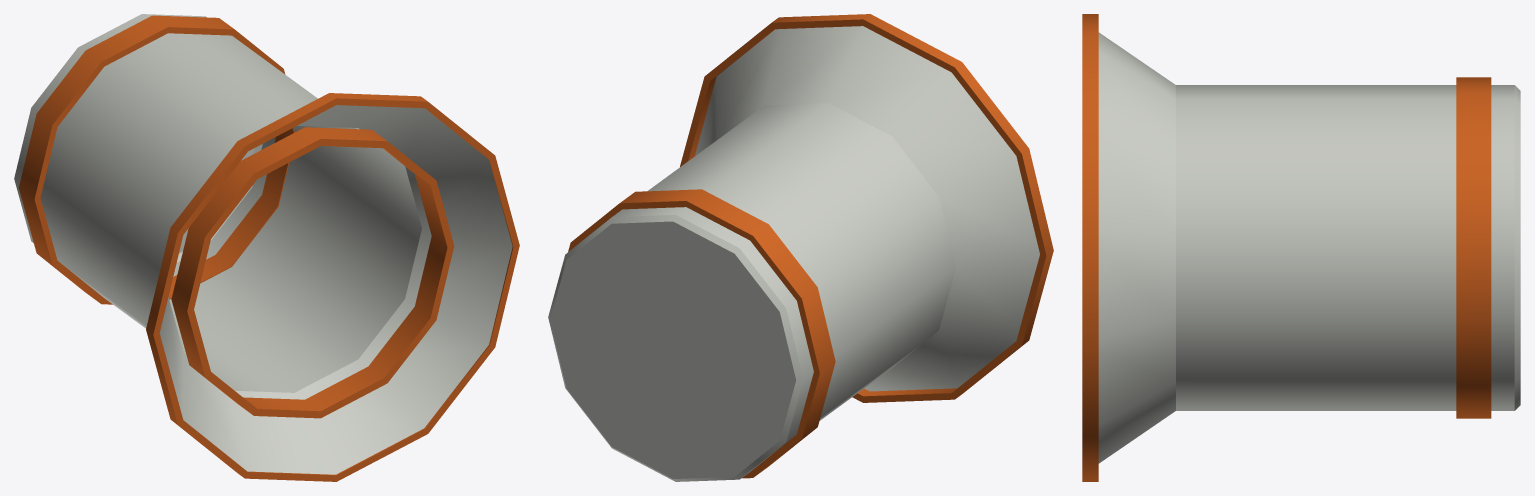
Rendered from u70_housing.obj.
The picture shows the model from 3 angles, left to right: view 1: azimuth 30°, elevation 25°; view 2: azimuth 150°, elevation 25°; view 3: azimuth 270°, elevation 25°; orthographic projection. The views are drawn at different scales.
Parts seen in each view (by area): view 1: u70_housing; view 2: u70_housing; view 3: u70_housing.
Boxes of the visible parts, x1,y1,x2,y2 form: u70_housing: (14, 14, 519, 481); u70_housing: (548, 14, 1053, 481); u70_housing: (1082, 14, 1520, 481).
Bounding box in the file's own units: 4.02 × 4.02 × 3.75.
